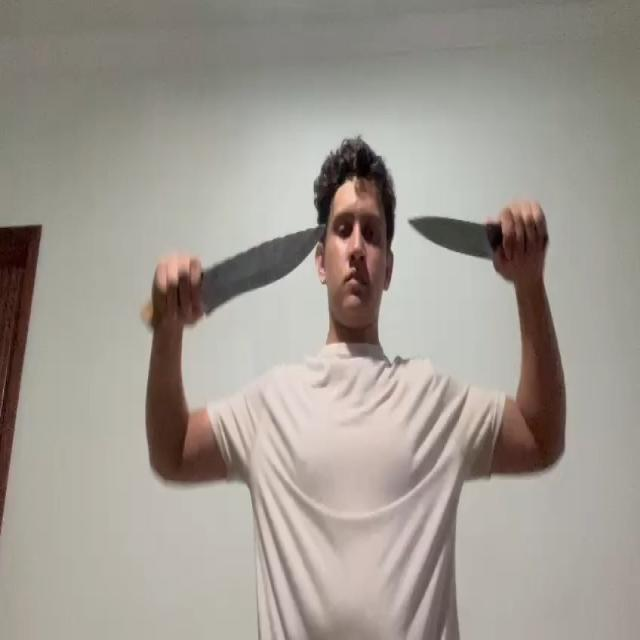knife: (200, 222, 326, 312), (408, 217, 492, 259)
